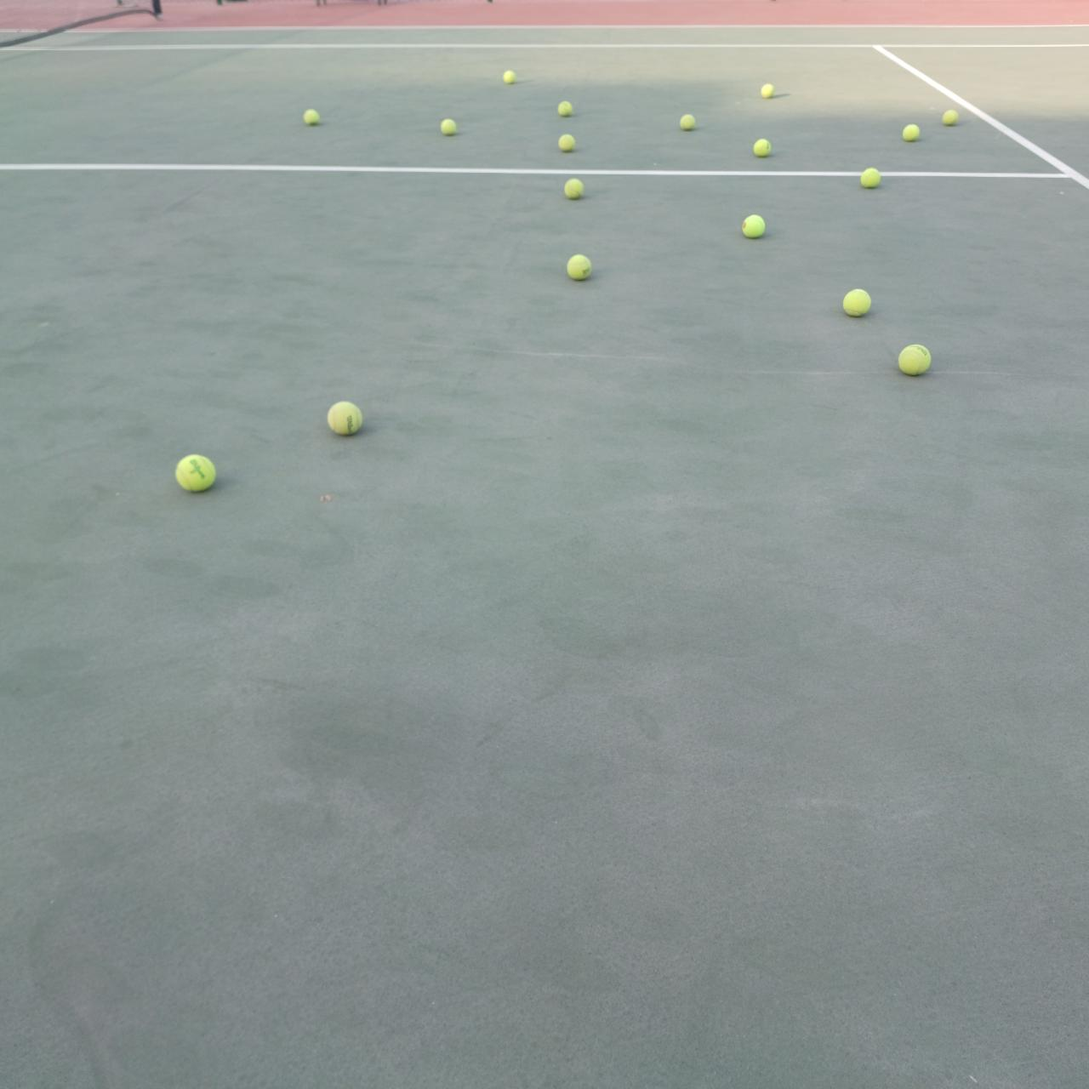tennis-ball: (174, 451, 216, 493), (325, 398, 363, 436), (897, 341, 932, 376), (841, 286, 870, 316), (565, 252, 592, 281), (740, 212, 766, 238), (858, 165, 881, 188), (563, 178, 584, 199), (751, 136, 771, 157), (901, 122, 920, 141), (302, 106, 320, 125), (439, 116, 456, 135), (558, 133, 575, 152), (679, 114, 696, 131), (557, 100, 573, 117), (941, 110, 958, 126), (761, 84, 774, 99), (503, 71, 515, 84)
